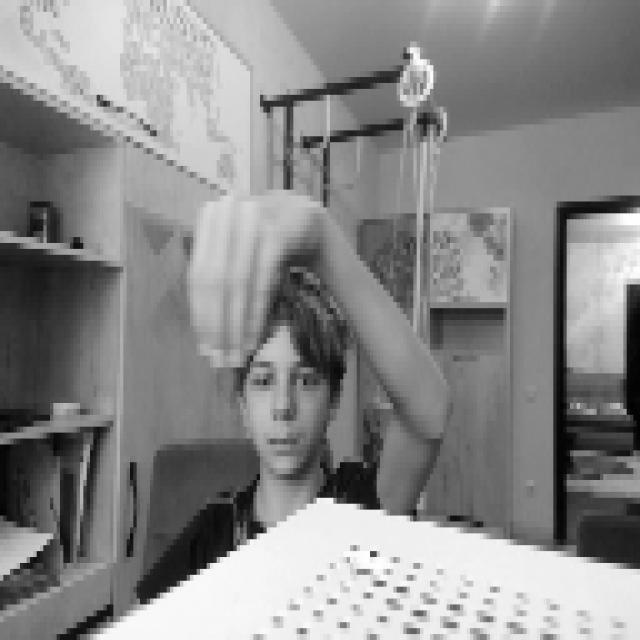left_click: (183, 178, 277, 367)
